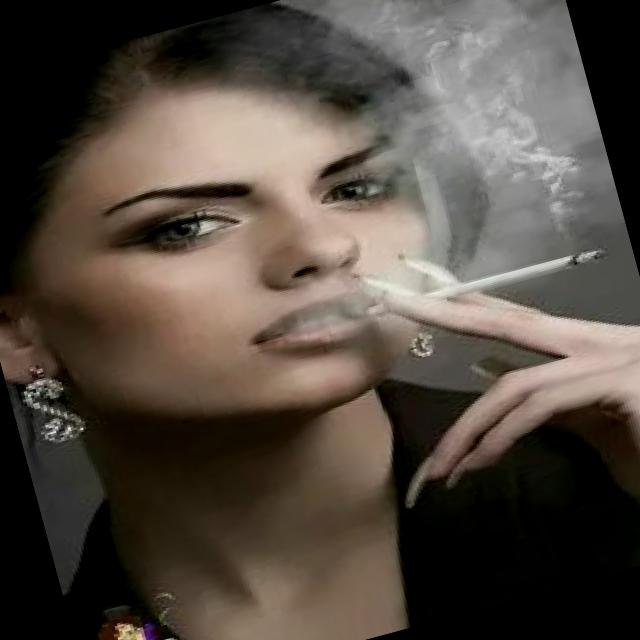smoke: (366, 234, 617, 324)
